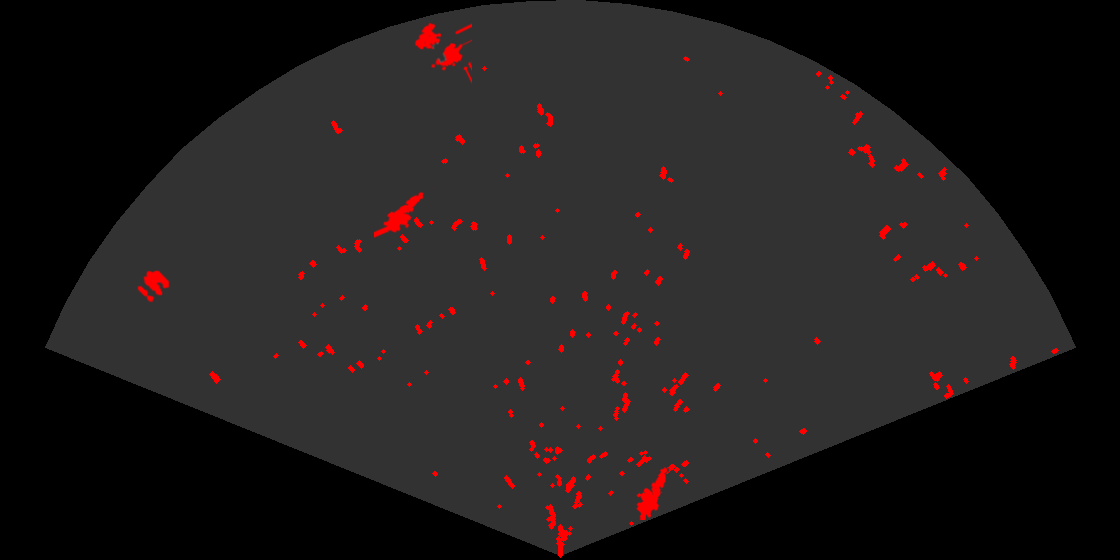ball: (136, 269, 171, 304)
cage: (413, 21, 472, 85)
frogman: (374, 188, 435, 240), (635, 465, 669, 520)
